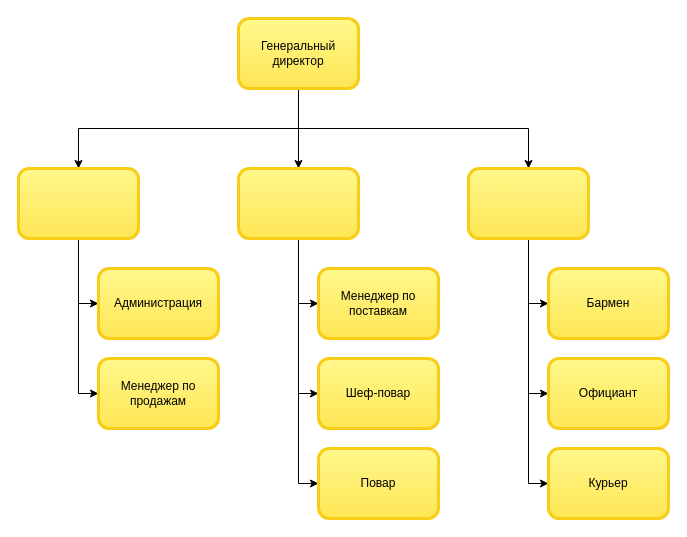
Image size: 687x537. Some labels were removed from this diagram. The centre of each missing label's shape, as x and y in pixels:
Зал: the point at 528,203
Кухня: the point at 298,203
Отдел администрации: the point at 78,203
